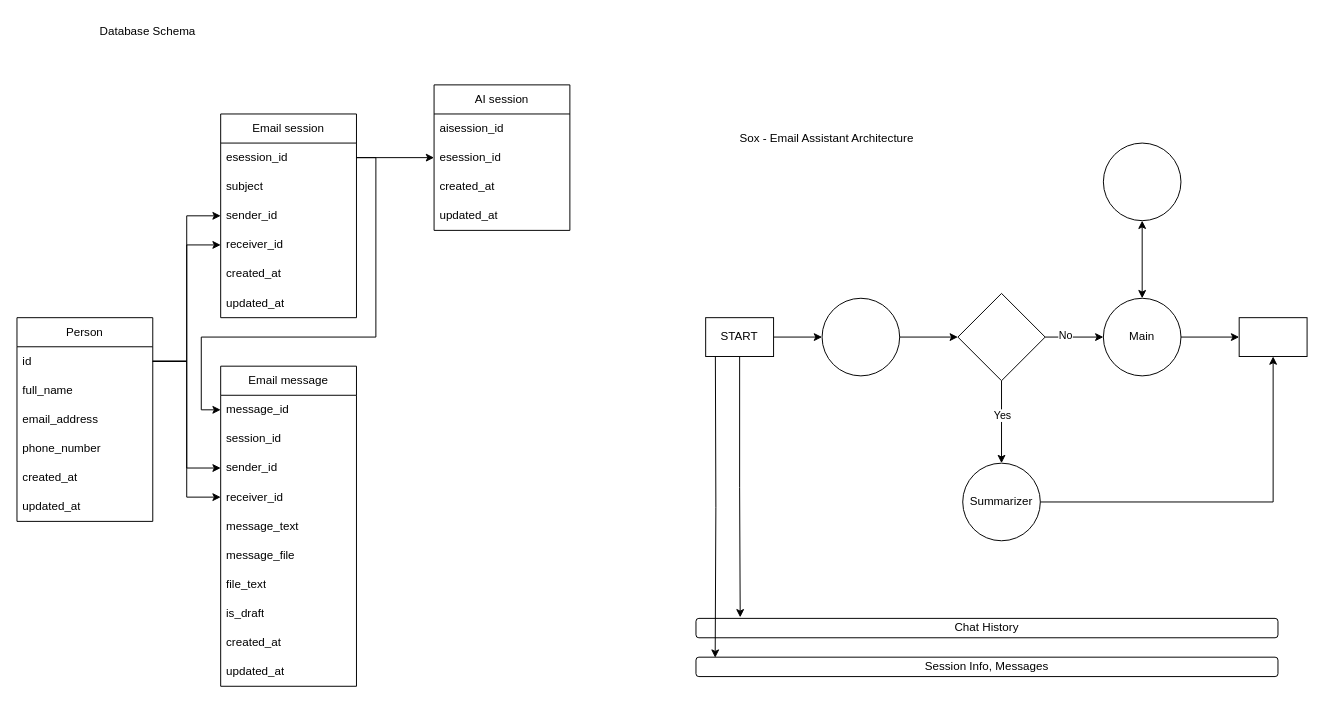
Image size: 1324x703. Some labels were removed from this diagram. The centre of each missing label's shape, as x and y in pixels:
END: [1272,336]
Summarize?: [1001,336]
ToolNode: [1141,181]
triage: [860,336]
